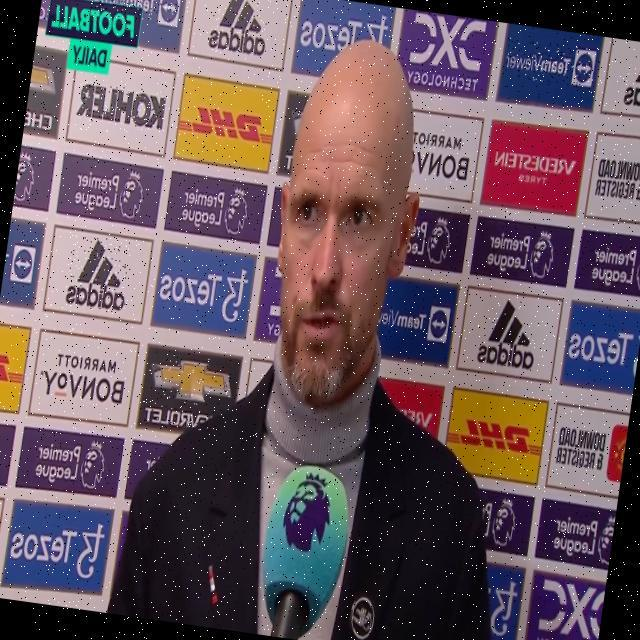Adidas: (64, 235, 134, 315), (476, 295, 542, 372), (205, 0, 275, 59), (620, 40, 640, 114)
Chevrolet: (142, 352, 235, 435)
Kohler: (76, 81, 167, 132)
TeamViewer: (503, 38, 598, 89), (85, 0, 181, 25)
